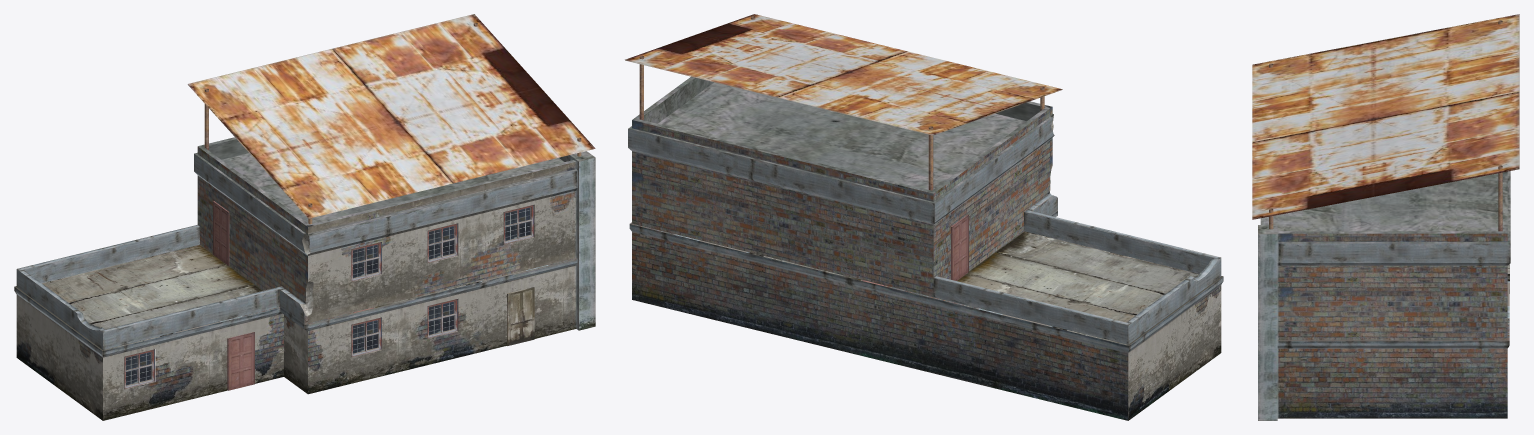
3 views of the same model, side by side, from view 1: azimuth 30°, elevation 25°; view 2: azimuth 150°, elevation 25°; view 3: azimuth 270°, elevation 25° (orthographic). The views are drawn at different scales.
Parts seen in each view (by area): view 1: b5; view 2: b5; view 3: b5.
Boxes of the visible parts, bbox=[...] form: b5: bbox=[14, 14, 595, 420]; b5: bbox=[625, 14, 1223, 420]; b5: bbox=[1252, 14, 1519, 420].
Size of the model in its own units: 19.55 by 9.06 by 8.77.
1 material, 1 textured.
